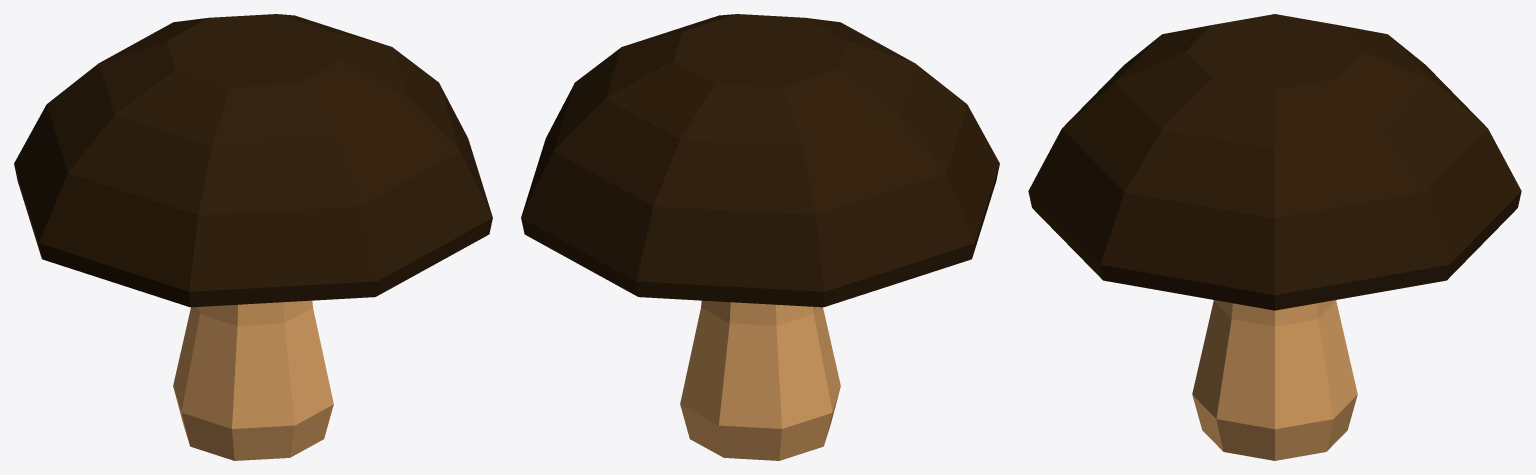
Rendered from Camp_Mushroom3.fbx.
3 renders of one model, left to right at view 1: azimuth 30°, elevation 25°; view 2: azimuth 150°, elevation 25°; view 3: azimuth 270°, elevation 25°, orthographic.
Parts seen in each view (by area): view 1: Cylinder.004; view 2: Cylinder.004; view 3: Cylinder.004.
Part boxes in pixels (left/top/right/bottom): Cylinder.004: left=14, top=14, right=492, bottom=460; Cylinder.004: left=521, top=14, right=999, bottom=460; Cylinder.004: left=1028, top=14, right=1521, bottom=460.
Size of the model in its own units: 29.6 by 25.06 by 29.6.
